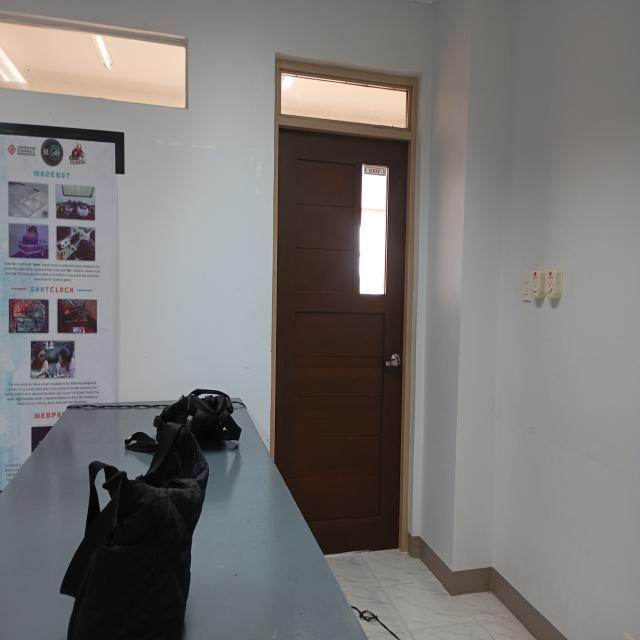door: (268, 45, 426, 584)
